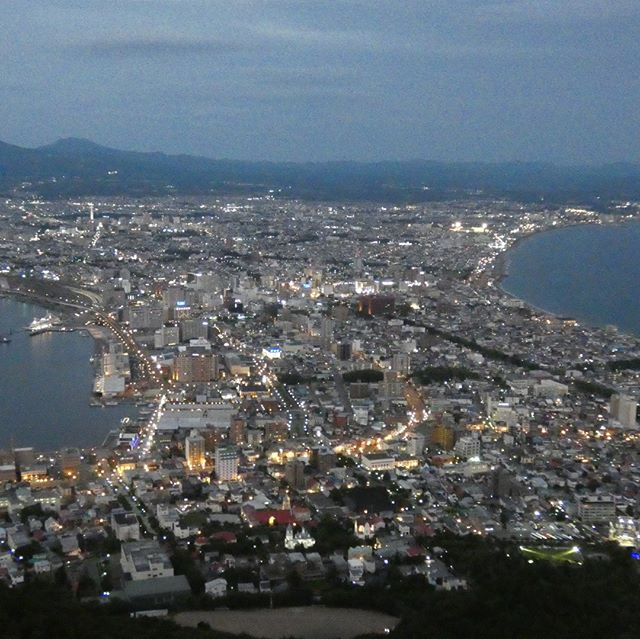mountain: (6, 125, 188, 171)
sky: (1, 1, 613, 155)
